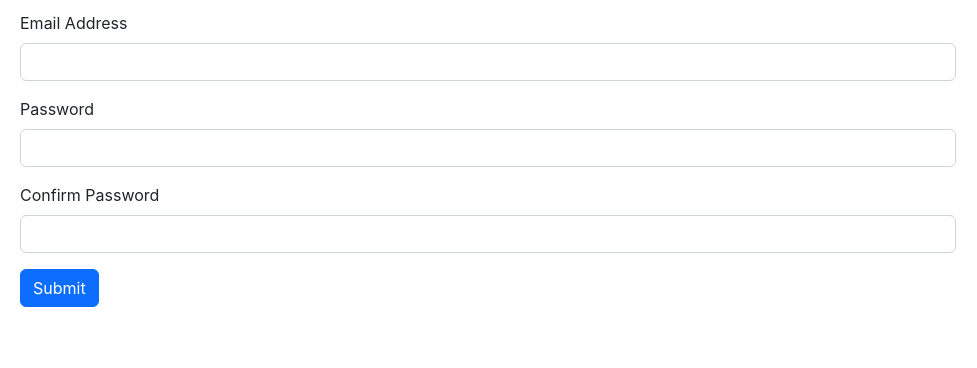
Test: Testing Form Component › should validate it user has given a valid email
Expected: the text "This is not a valid email." is not shown
Type "not a valid email" into the field at {"x": 488, "y": 62}, box [20,43,956,81]
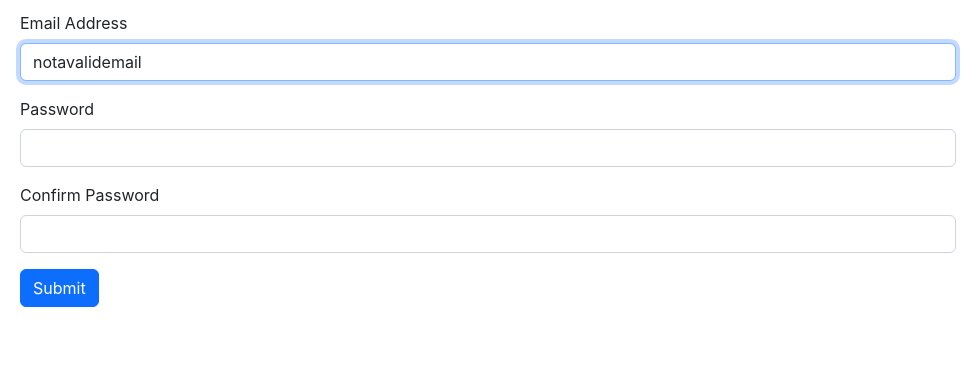
Click the button at {"x": 59, "y": 288}, box [20,269,99,307]
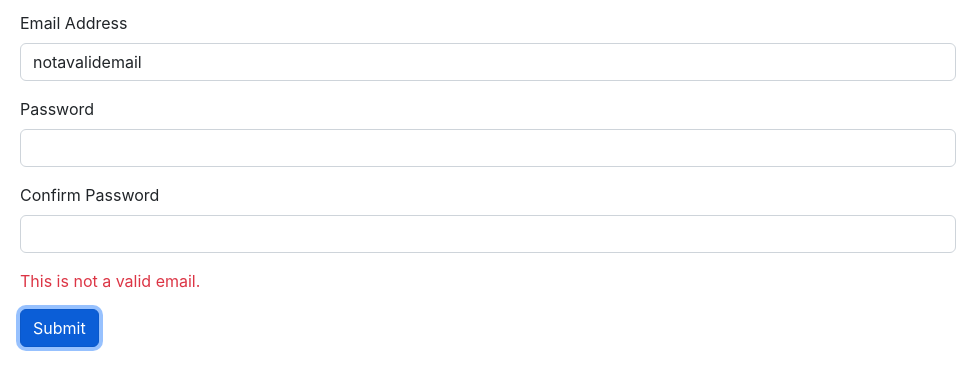
Now the text "This is not a valid email." is shown, box [20,271,200,291]
